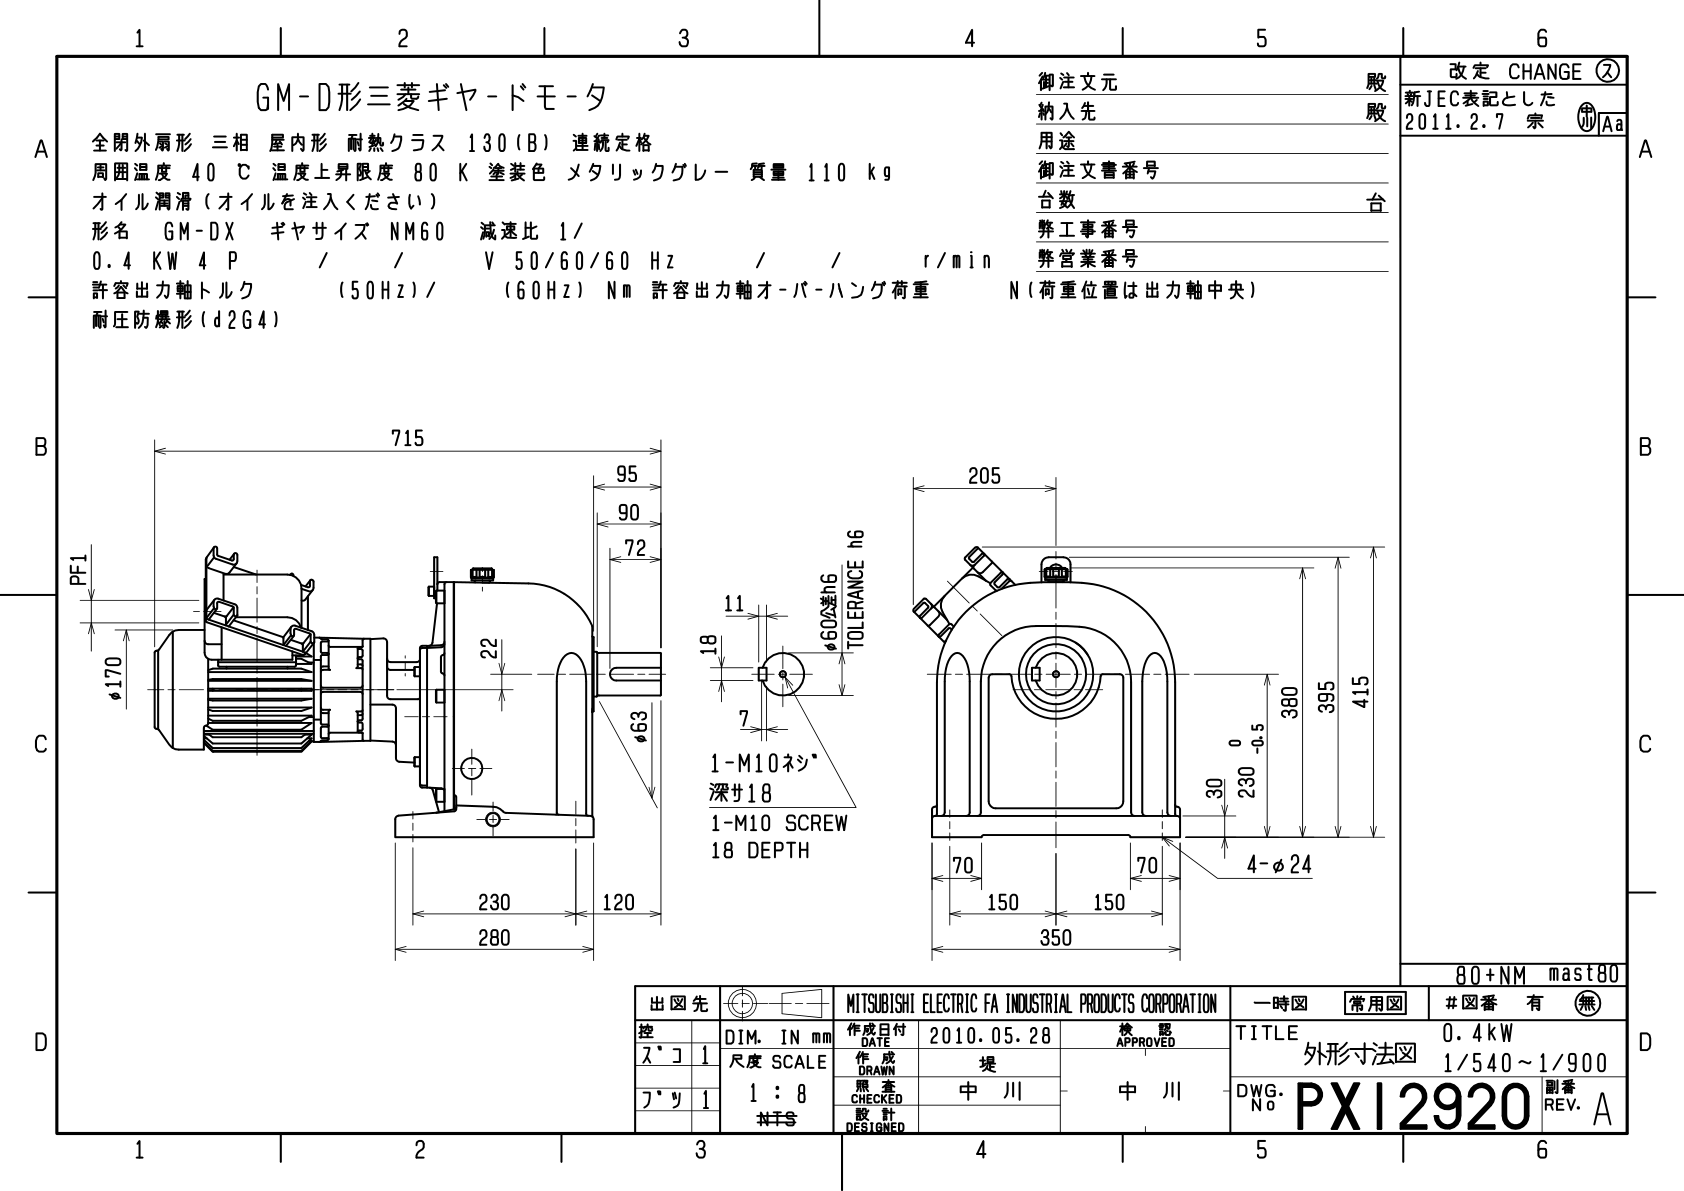GM_D_耐圧屋内_三相_脚: (63, 410, 1392, 969)
